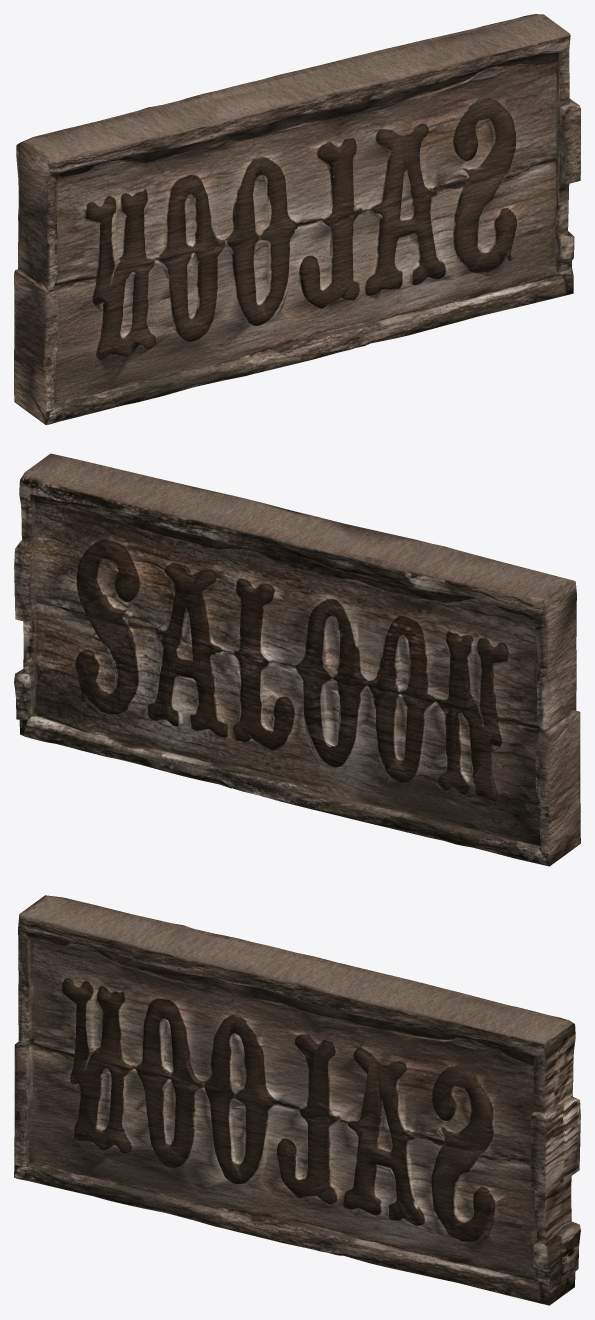
File: Saloon_Sign.glb
The picture shows the model from 3 angles, top to bottom: view 1: azimuth 30°, elevation 25°; view 2: azimuth 150°, elevation 25°; view 3: azimuth 330°, elevation 25°; orthographic projection.
Parts seen in each view (by area): view 1: tripo_node_0447b45c-bdb9-417c-9502-e1d49f87dd13; view 2: tripo_node_0447b45c-bdb9-417c-9502-e1d49f87dd13; view 3: tripo_node_0447b45c-bdb9-417c-9502-e1d49f87dd13.
Boxes of the visible parts, box(x1,y1,x2,y2) form: tripo_node_0447b45c-bdb9-417c-9502-e1d49f87dd13: box(14, 14, 580, 424); tripo_node_0447b45c-bdb9-417c-9502-e1d49f87dd13: box(14, 453, 580, 866); tripo_node_0447b45c-bdb9-417c-9502-e1d49f87dd13: box(14, 895, 580, 1305).
Size of the model in its own units: 0.9766 by 0.4612 by 0.1167.
Materials: 1 (1 with a texture image).
